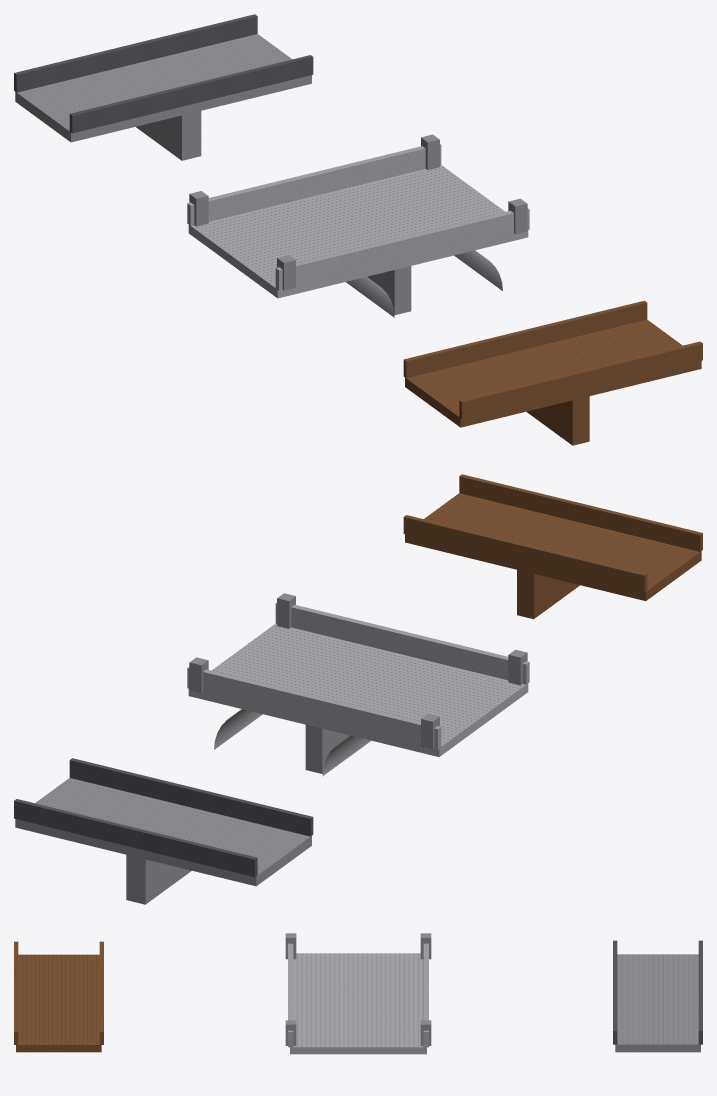
3 views of the same model, one above another, from view 1: azimuth 30°, elevation 25°; view 2: azimuth 150°, elevation 25°; view 3: azimuth 270°, elevation 25° (orthographic). The views are drawn at different scales.
Visible parts, largest first — view 1: node_component_11110_03_03188_003_01_gwangtong_bridge, node_component_11110_03_03188_003_02_mojeon_bridge, node_component_11110_03_03188_003_03_jangtong_bridge; view 2: node_component_11110_03_03188_003_01_gwangtong_bridge, node_component_11110_03_03188_003_02_mojeon_bridge, node_component_11110_03_03188_003_03_jangtong_bridge; view 3: node_component_11110_03_03188_003_01_gwangtong_bridge, node_component_11110_03_03188_003_02_mojeon_bridge, node_component_11110_03_03188_003_03_jangtong_bridge.
Boxes of the visible parts, x1,y1,x2,y2 form: node_component_11110_03_03188_003_01_gwangtong_bridge: [187, 134, 529, 317]; node_component_11110_03_03188_003_02_mojeon_bridge: [14, 14, 313, 160]; node_component_11110_03_03188_003_03_jangtong_bridge: [403, 300, 702, 445]; node_component_11110_03_03188_003_01_gwangtong_bridge: [187, 593, 529, 776]; node_component_11110_03_03188_003_02_mojeon_bridge: [14, 758, 313, 904]; node_component_11110_03_03188_003_03_jangtong_bridge: [403, 474, 702, 619]; node_component_11110_03_03188_003_01_gwangtong_bridge: [285, 933, 431, 1054]; node_component_11110_03_03188_003_02_mojeon_bridge: [613, 940, 702, 1052]; node_component_11110_03_03188_003_03_jangtong_bridge: [14, 941, 103, 1052].
Size of the model in its own units: 10.4 by 3.35 by 32.2.
Materials: 4 (4 with a texture image).
